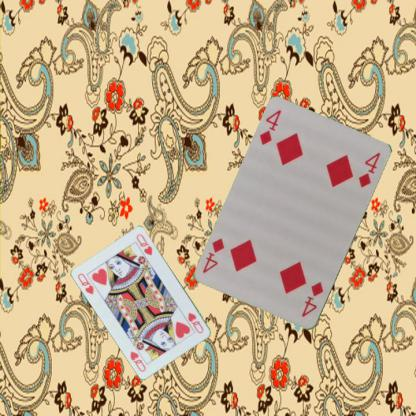4d: (257, 107, 283, 147), (299, 280, 325, 319)
Qh: (75, 270, 95, 296), (186, 310, 205, 334)
